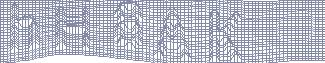8: (111, 1, 144, 52)
A: (152, 8, 194, 61)
H: (53, 5, 94, 52)
K: (207, 9, 243, 63)
h: (8, 1, 41, 52)
